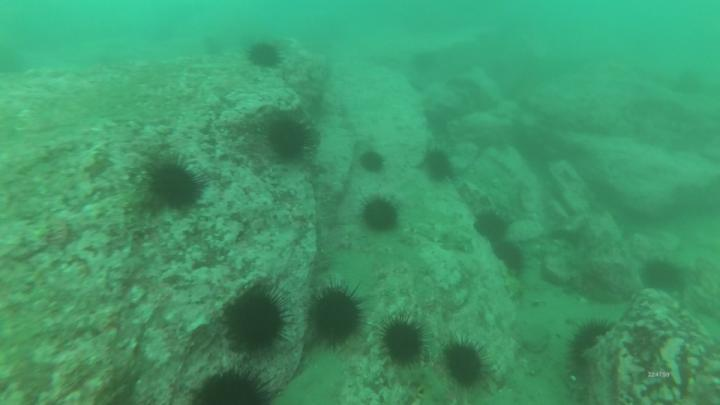echinus: (303, 278, 366, 354), (225, 282, 288, 358), (191, 358, 284, 405), (144, 157, 209, 215), (375, 310, 432, 373), (439, 333, 493, 394), (567, 315, 618, 369), (266, 119, 315, 162), (358, 193, 402, 235), (640, 257, 685, 296), (244, 41, 288, 72), (422, 147, 456, 187), (473, 212, 511, 243), (492, 240, 528, 270), (357, 147, 389, 179)
holothurian: (397, 364, 452, 405), (497, 263, 525, 303)
